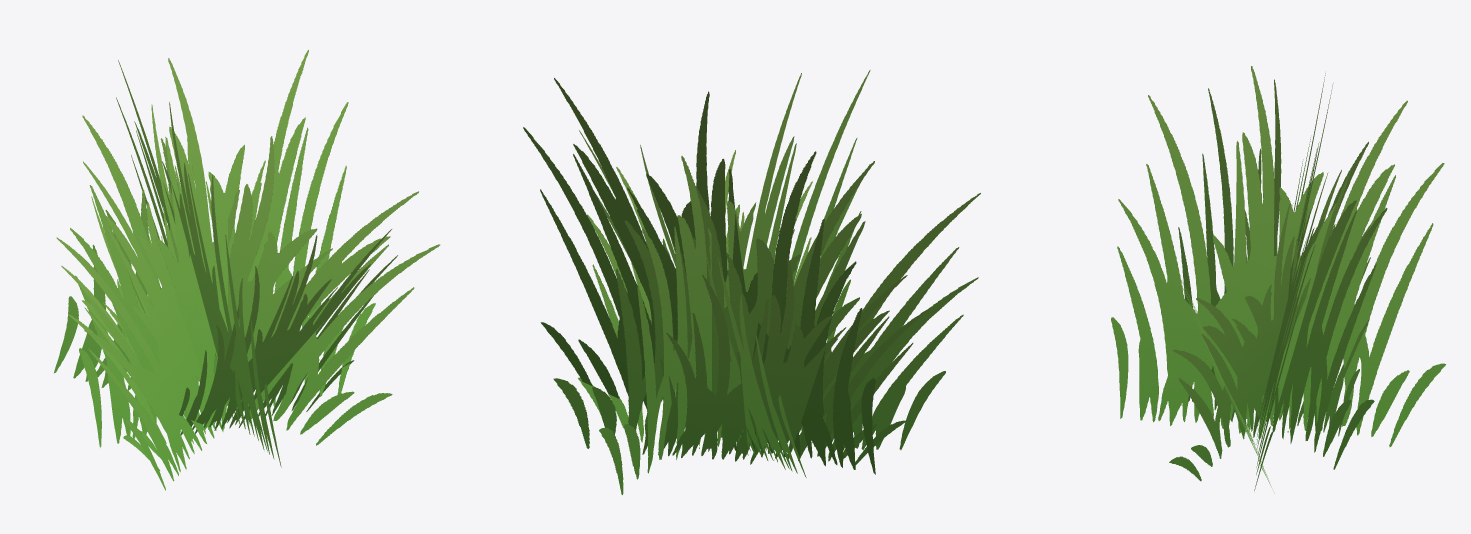
The model's file is Grass_Stylyzed_01.fbx.
The picture shows the model from 3 angles, left to right: view 1: azimuth 30°, elevation 25°; view 2: azimuth 150°, elevation 25°; view 3: azimuth 270°, elevation 25°; orthographic projection. The views are drawn at different scales.
Visible parts, largest first — view 1: Grass_Stylyzed_01; view 2: Grass_Stylyzed_01; view 3: Grass_Stylyzed_01.
Boxes of the visible parts, left/top/right/bottom form: Grass_Stylyzed_01: left=54, top=50, right=440, bottom=490; Grass_Stylyzed_01: left=523, top=70, right=980, bottom=494; Grass_Stylyzed_01: left=1111, top=66, right=1445, bottom=493.
Bounding box in the file's own units: 73.1 × 58.23 × 52.84.
Materials: 1 (1 with a texture image).
